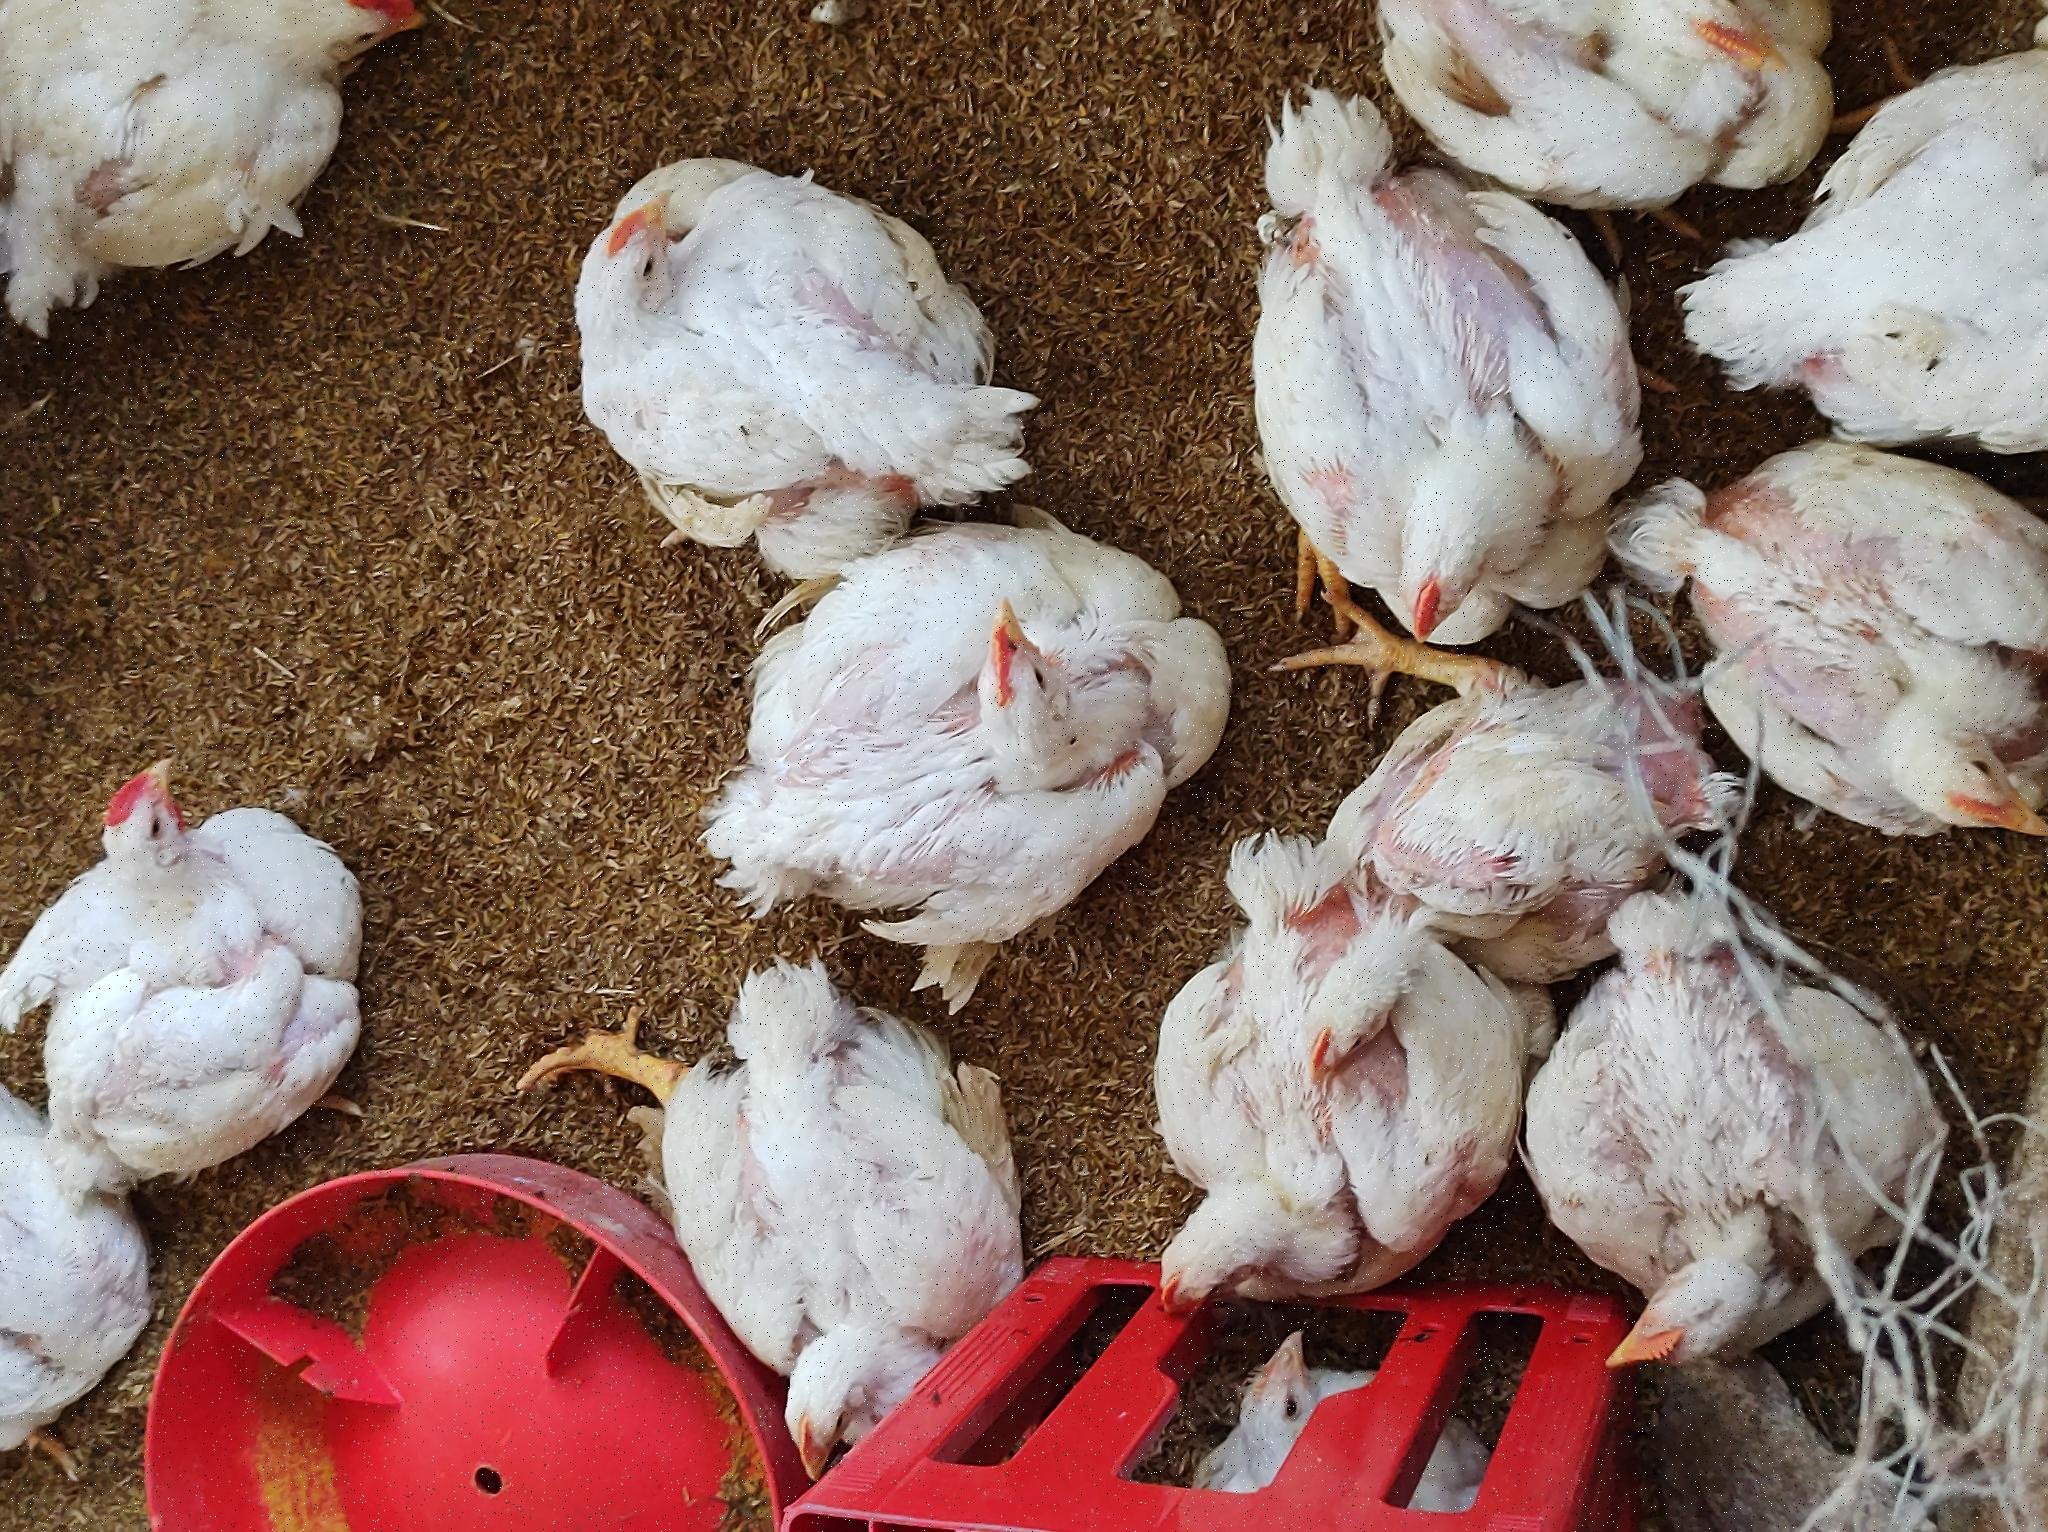Pollos: (63, 509, 592, 1043), (520, 702, 1031, 1223), (1005, 558, 1404, 1052), (183, 1123, 632, 1529), (401, 2, 780, 409), (1221, 2, 1533, 426), (903, 1258, 1379, 1532), (462, 1262, 833, 1532), (39, 2, 479, 211), (18, 1168, 233, 1419), (1297, 1361, 1533, 1532)
